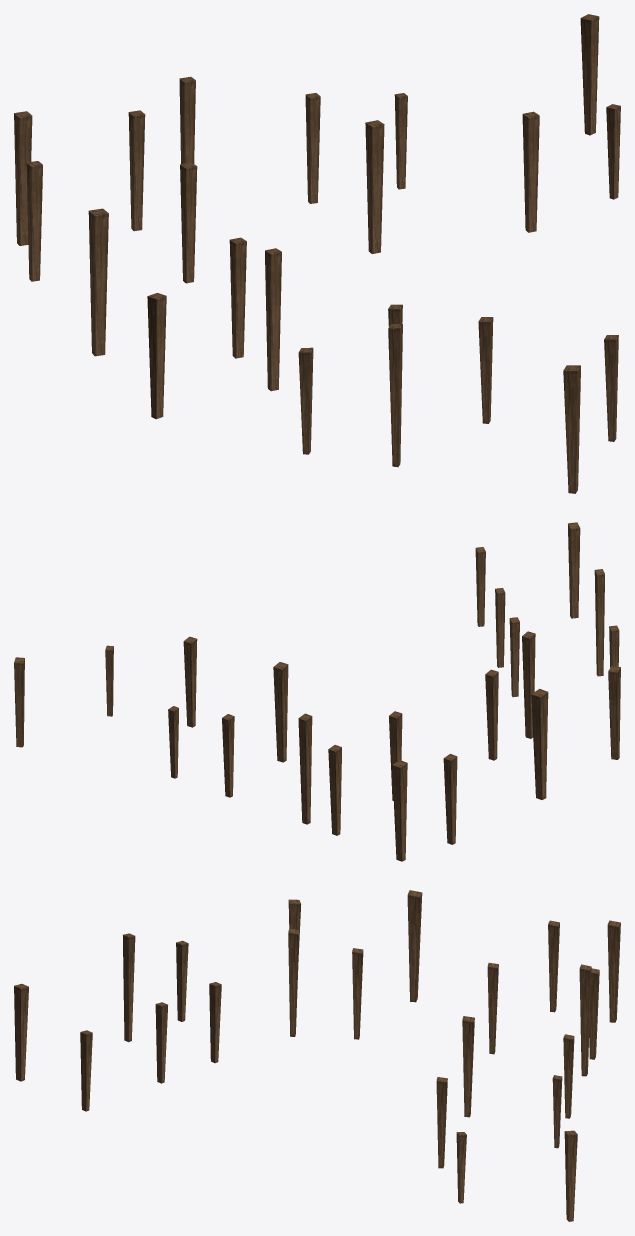
File: map12_bridge01_2.FBX
The picture shows the model from 3 angles, top to bottom: view 1: azimuth 30°, elevation 25°; view 2: azimuth 150°, elevation 25°; view 3: azimuth 270°, elevation 25°; orthographic projection. The views are drawn at different scales.
Parts seen in each view (by area): view 1: Object015; view 2: Object015; view 3: Object015.
Boxes of the visible parts, box(x1,y1,x2,y2) form: Object015: box(14, 14, 620, 493); Object015: box(14, 522, 620, 861); Object015: box(14, 890, 620, 1221).
Size of the model in its own units: 7796 by 1697 by 8601.
Materials: 1 (1 with a texture image).
